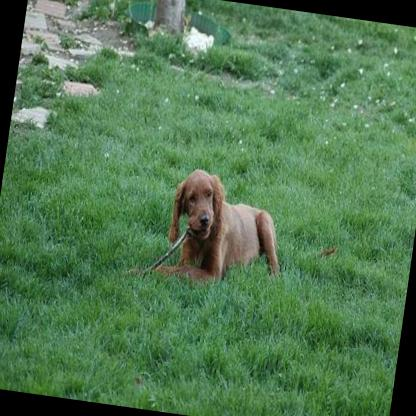Irish_setter: (144, 158, 293, 300)
